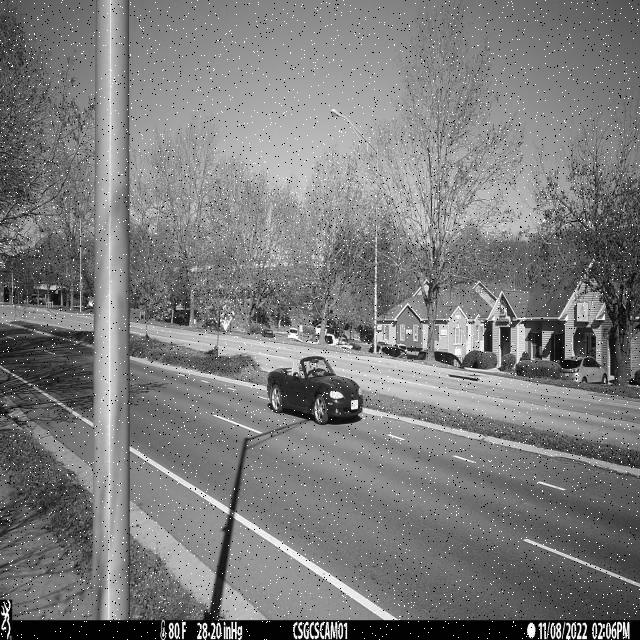Sedan: (267, 356, 365, 425)
